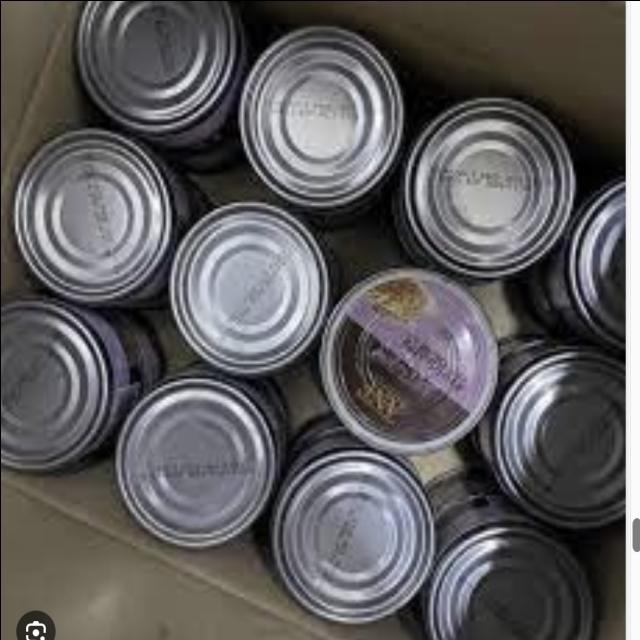can: (391, 78, 581, 289), (228, 7, 418, 215), (156, 180, 344, 384), (7, 112, 185, 314), (96, 358, 280, 552), (264, 438, 438, 628)
